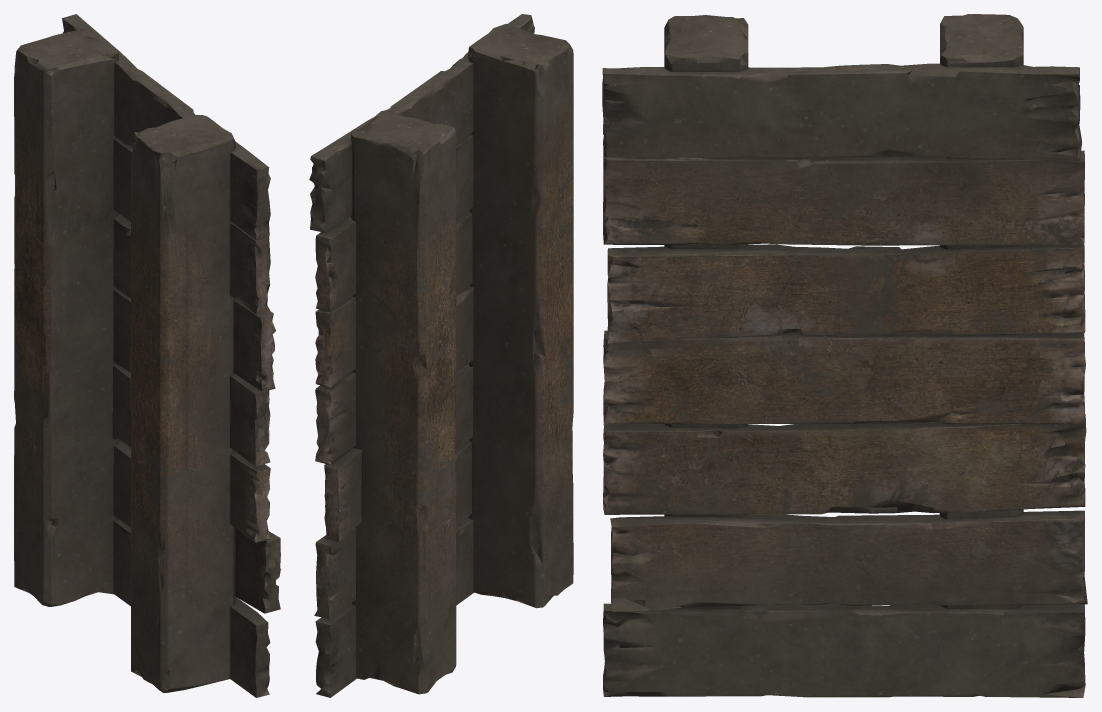
File: SM_WallWoodBoards02.glb
3 views of the same model, side by side, from view 1: azimuth 30°, elevation 25°; view 2: azimuth 150°, elevation 25°; view 3: azimuth 270°, elevation 25° (orthographic). The views are drawn at different scales.
Parts seen in each view (by area): view 1: SM_WallWoodBoards02; view 2: SM_WallWoodBoards02; view 3: SM_WallWoodBoards02.
Part boxes in pixels (x1,y1,x2,y2): SM_WallWoodBoards02: [14, 14, 280, 697]; SM_WallWoodBoards02: [309, 14, 573, 697]; SM_WallWoodBoards02: [602, 14, 1087, 697].
Size of the model in its own units: 0.5676 by 3.06 by 2.11.
1 material, 1 textured.
